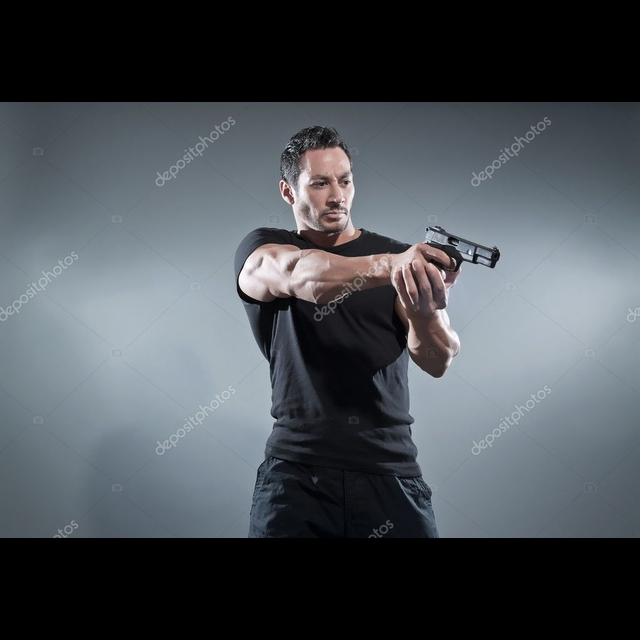SILAH: (404, 222, 515, 306)
